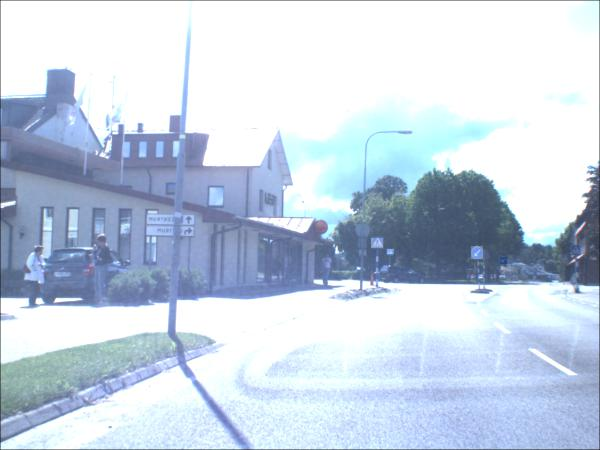PASS_RIGHT_SIDE: (471, 248, 484, 262), (500, 258, 508, 266)
PEDESTRIAN_CROSSING: (371, 239, 384, 250), (571, 246, 580, 257), (387, 250, 395, 256)
